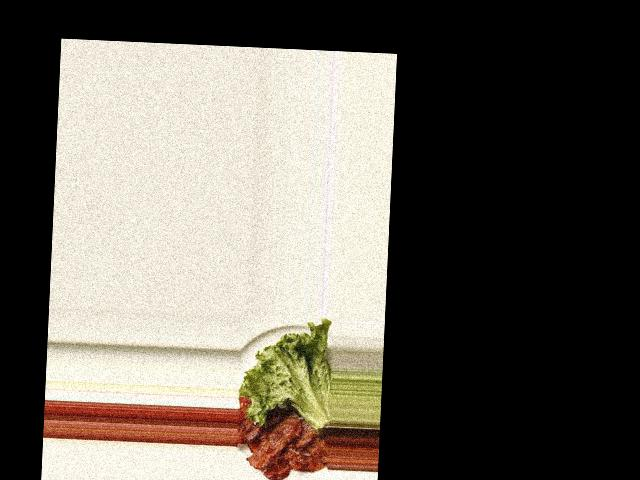lettuce: (244, 334, 350, 442)
